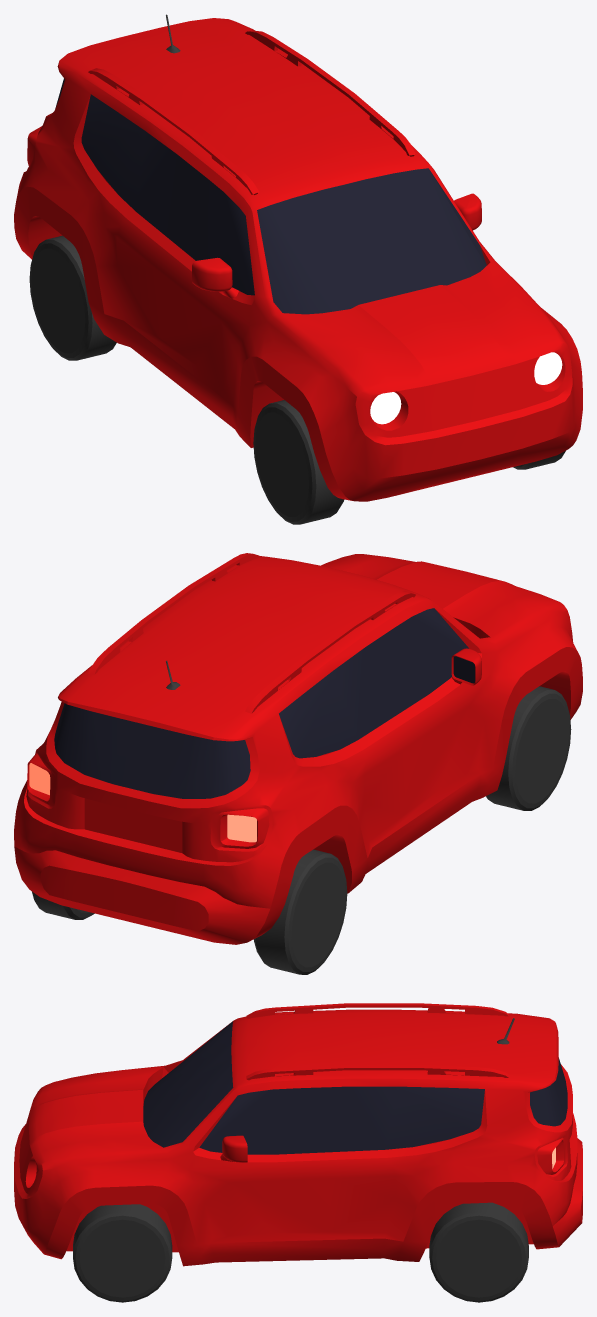
The model's file is car.gltf.
3 views of the same model, one above another, from view 1: azimuth 30°, elevation 25°; view 2: azimuth 150°, elevation 25°; view 3: azimuth 270°, elevation 25° (orthographic). The views are drawn at different scales.
Parts seen in each view (by area): view 1: Mesh8; view 2: Mesh8; view 3: Mesh8.
Part boxes in pixels (bbox=[...]): Mesh8: bbox=[14, 14, 582, 524]; Mesh8: bbox=[14, 553, 582, 974]; Mesh8: bbox=[14, 1003, 582, 1302].
Bounding box in the file's own units: 7.76 × 7.72 × 16.92.
